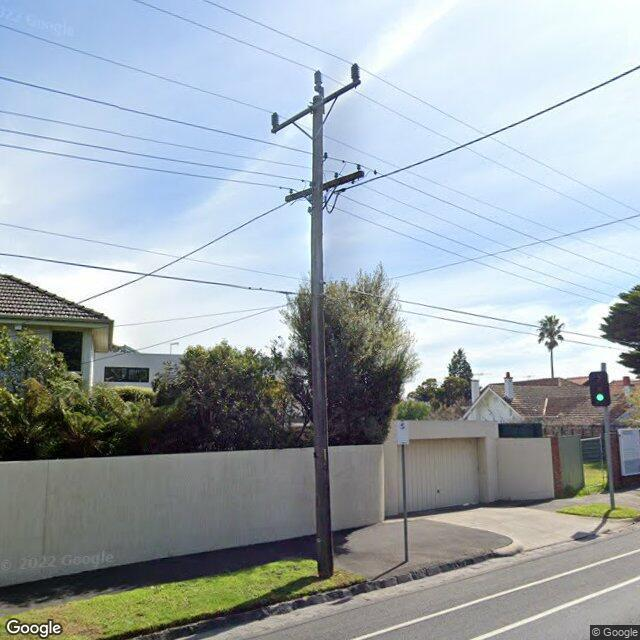HV-transmission: (270, 63, 360, 134)
crossarm: (278, 80, 362, 130), (285, 169, 363, 203)
steel-pole: (601, 362, 615, 510)
timber-pole: (312, 96, 335, 578)
traffic-light: (589, 371, 612, 407)
